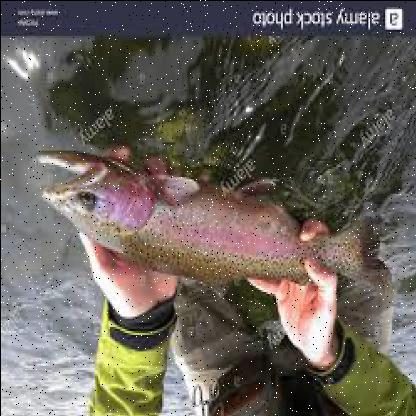fish: (32, 147, 384, 295)
